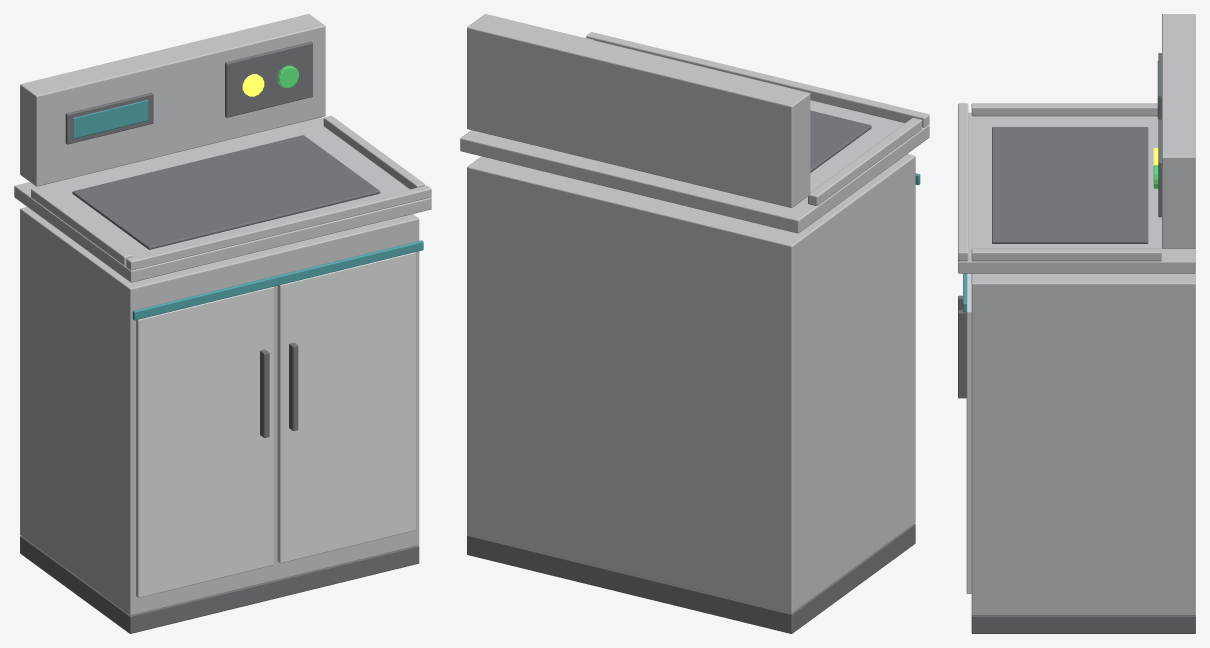
File: intake_station.glb
3 views of the same model, side by side, from view 1: azimuth 30°, elevation 25°; view 2: azimuth 150°, elevation 25°; view 3: azimuth 270°, elevation 25° (orthographic). The views are drawn at different scales.
Parts seen in each view (by area): view 1: intake_station; view 2: intake_station; view 3: intake_station.
Part boxes in pixels (box(x1,y1,x2,y2)): intake_station: box(14, 14, 431, 633); intake_station: box(460, 14, 929, 633); intake_station: box(958, 14, 1195, 633).
Bounding box in the file's own units: 1.04 × 1.55 × 0.7.
